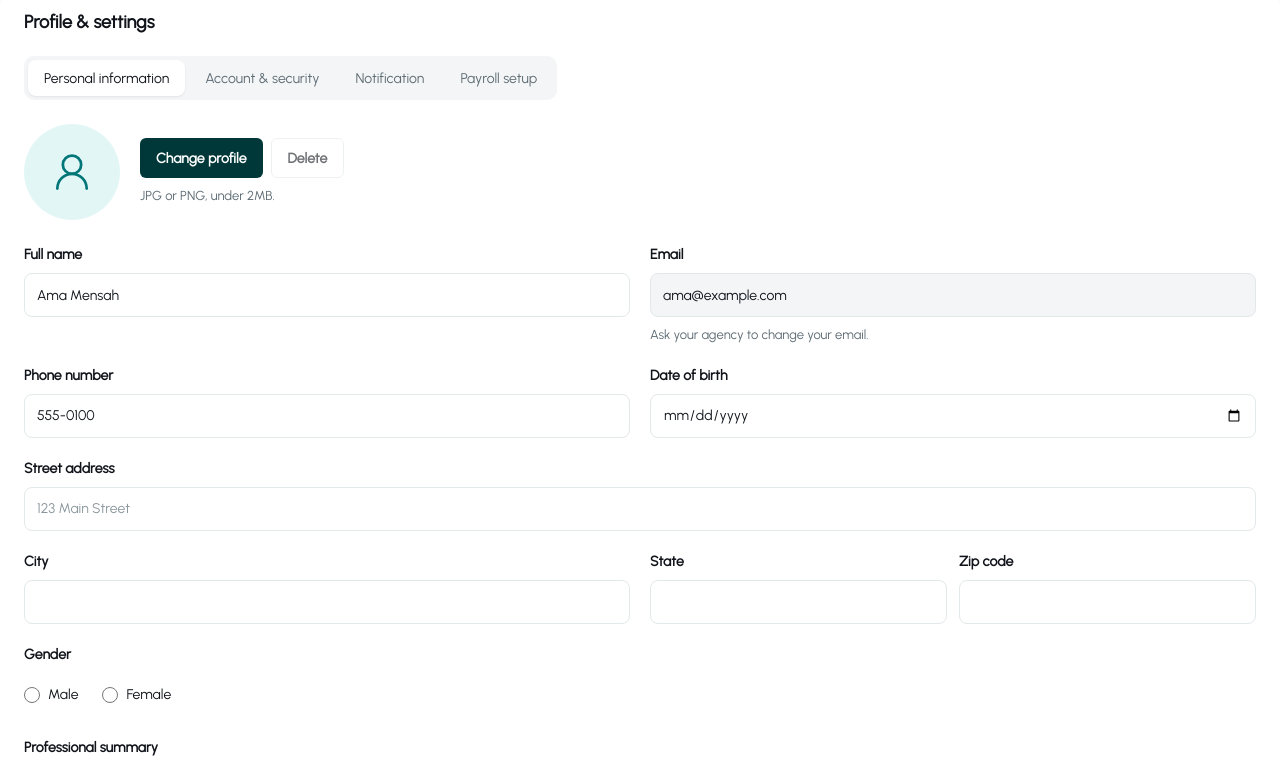
Test: user panel profile page › asks for a name instead of saving a blank one
Clear the field labelled "Full name" at x=327, y=295, box [24,273,630,317]
(page scrolled)
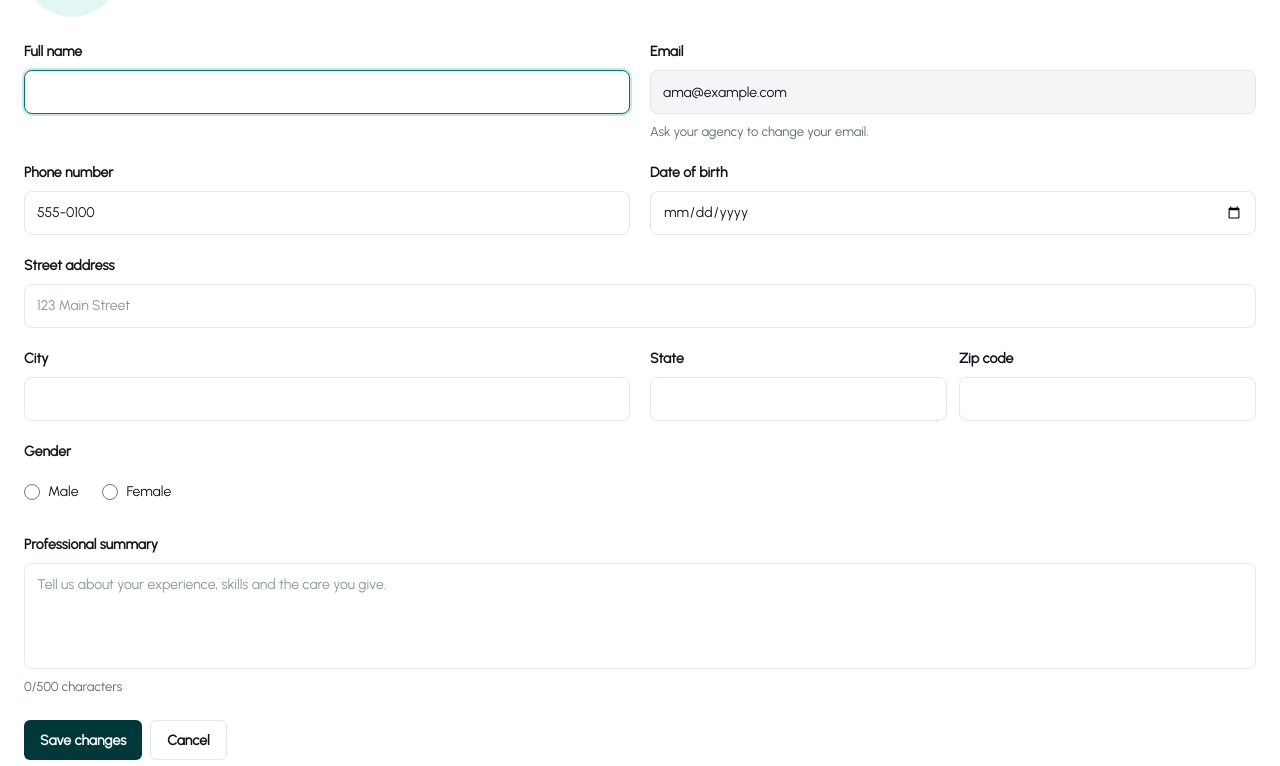
Click the button "Save changes" at x=83, y=740, box [24,720,142,760]
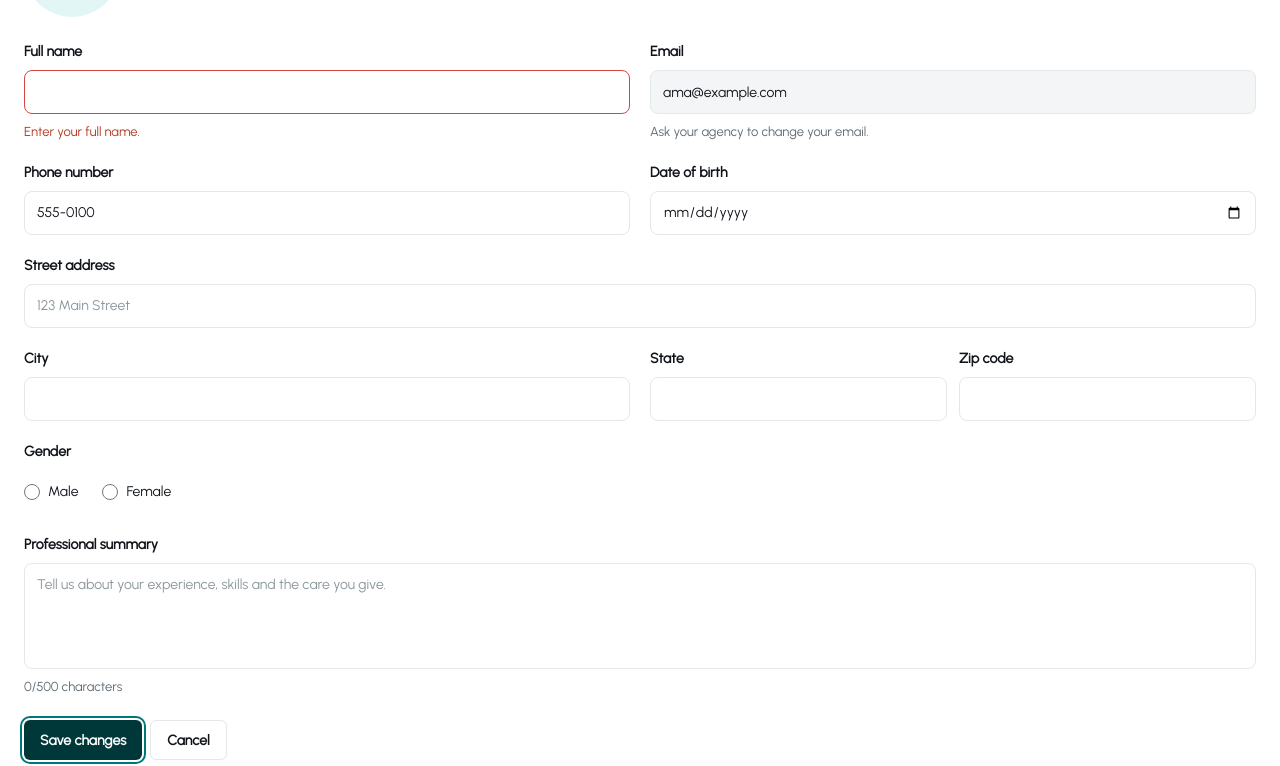
Check: the text "Enter your full name." is shown, box [24,124,140,139]
